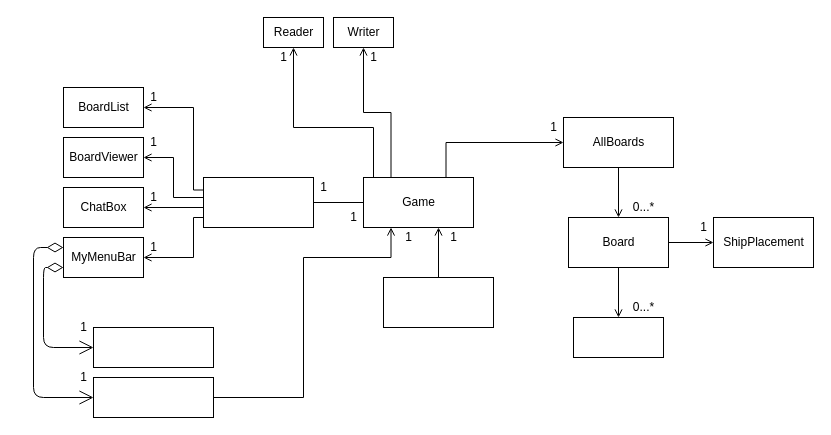
Image size: 831x435. Some labels were removed from this diagram. The shapes that lost their labels are listed below. From the top down, each one's box as (x1, y1, x2, y2) in pixels, then its label:
(202, 176, 314, 228): GameRenderer
(382, 276, 494, 328): Main
(92, 326, 214, 368): ActionPauseGame
(572, 316, 664, 358): Tile
(92, 376, 214, 418): ActionSaveGame
